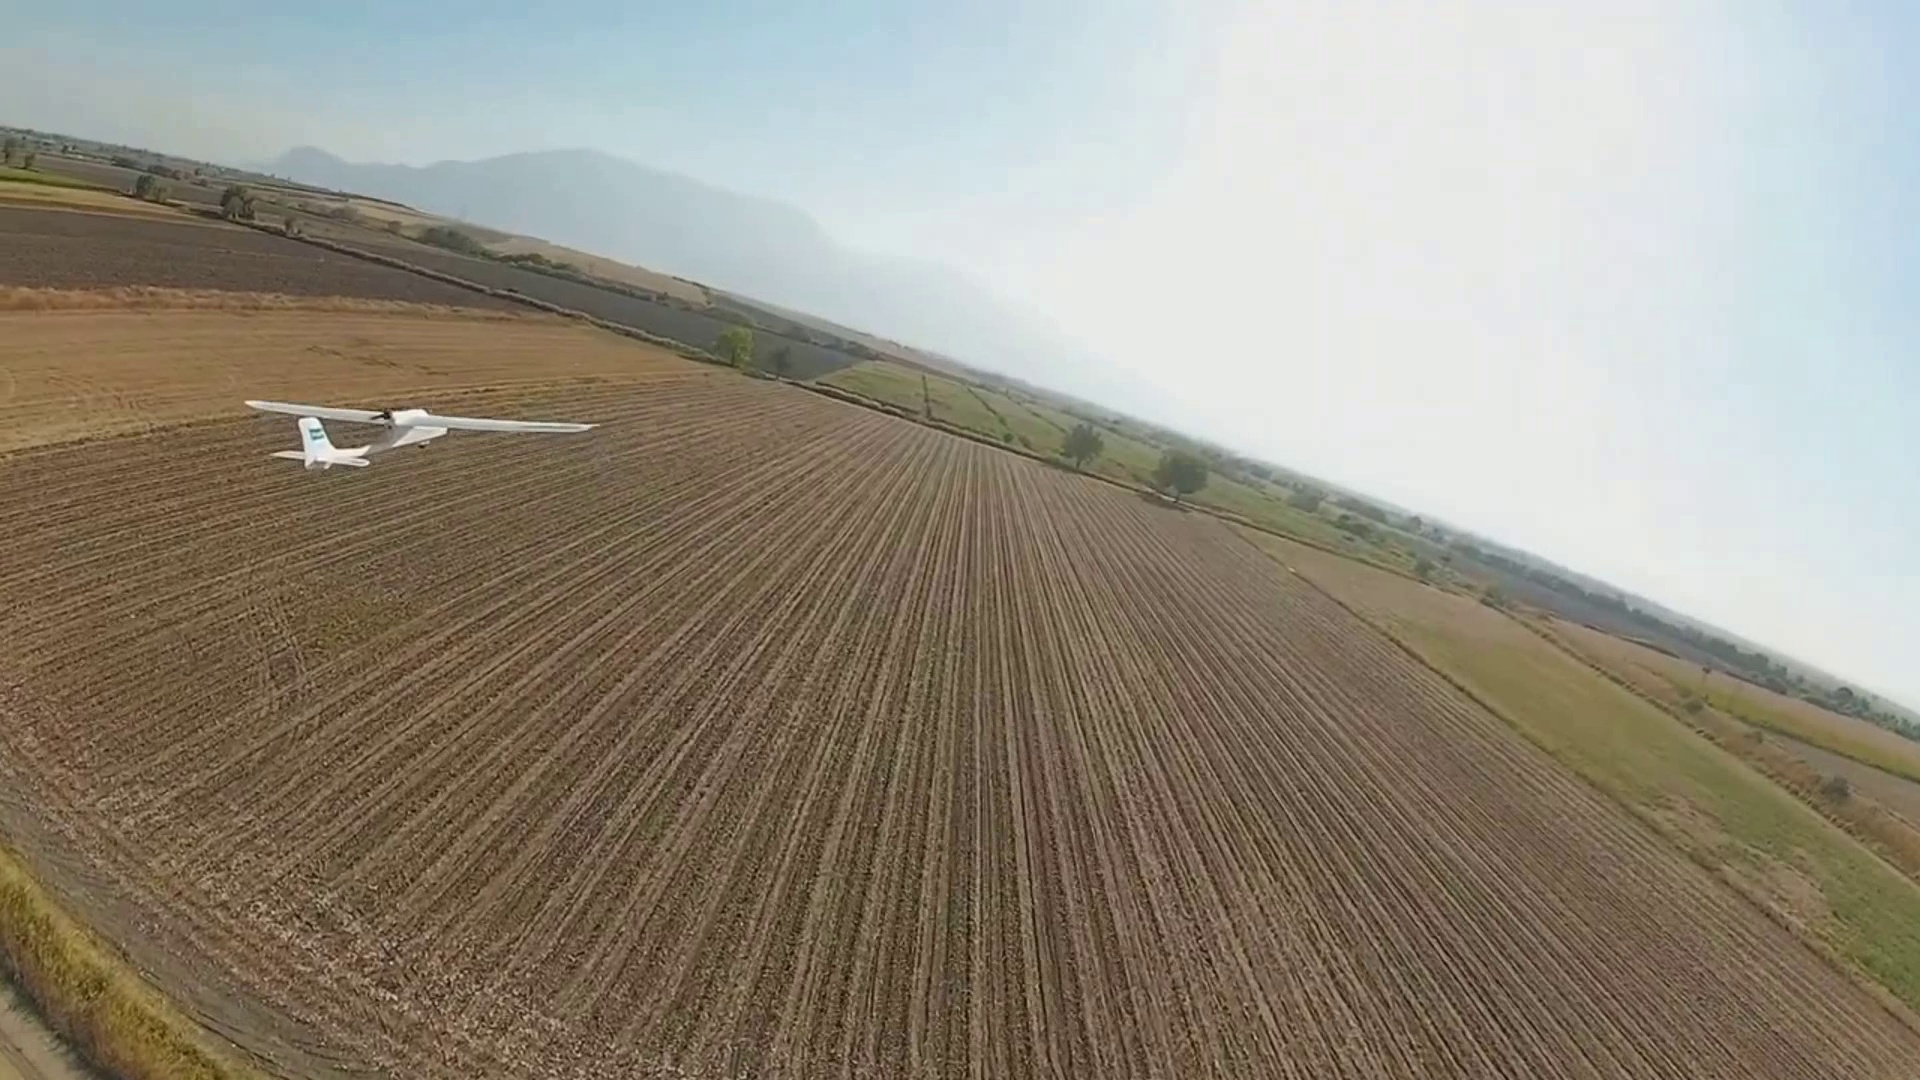airplane: (8, 146, 1920, 997), (240, 397, 594, 467), (244, 394, 443, 468)
